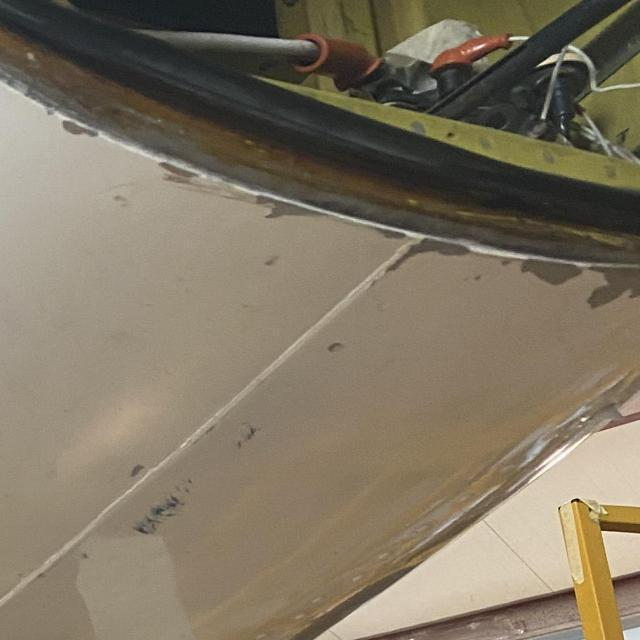Paint-off: (389, 235, 474, 270), (590, 265, 640, 306), (516, 258, 583, 286), (258, 194, 328, 217), (154, 156, 207, 185), (63, 120, 98, 138), (130, 462, 147, 476)
